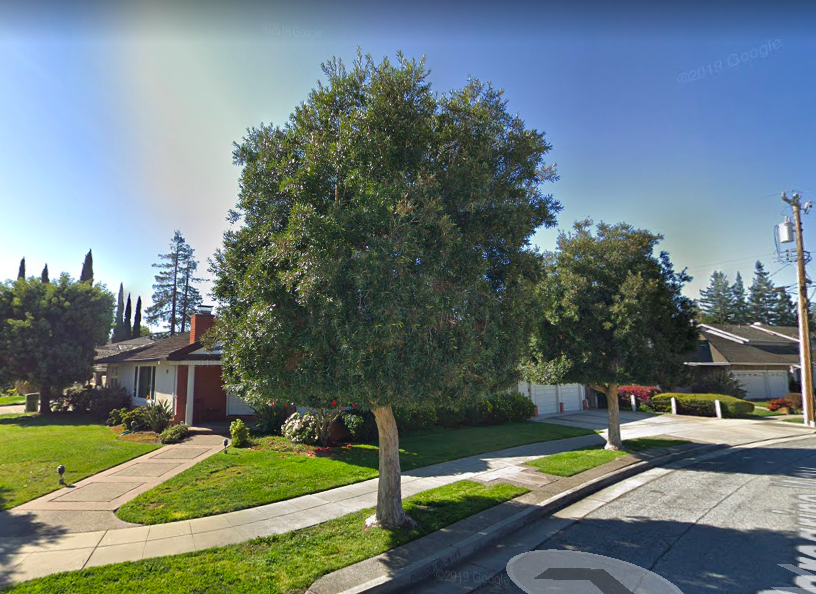tree: (206, 43, 566, 530)
